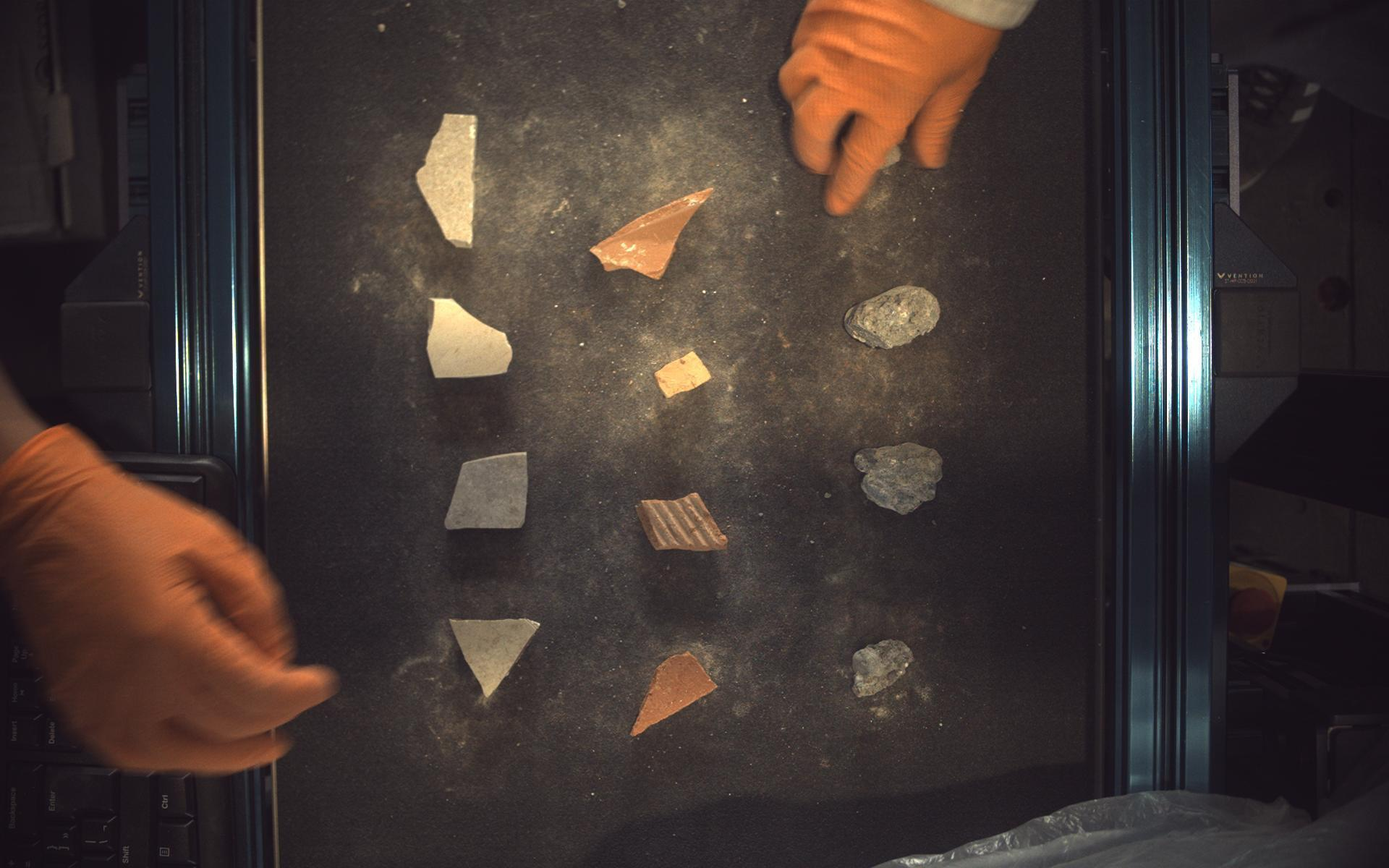brick: (592, 186, 715, 278), (632, 653, 718, 737), (637, 493, 729, 552), (656, 351, 712, 398)
concrete: (856, 443, 944, 515), (845, 285, 943, 349), (855, 640, 916, 699)
tile: (416, 113, 477, 247), (449, 619, 540, 698), (427, 298, 513, 378), (445, 453, 528, 530)
